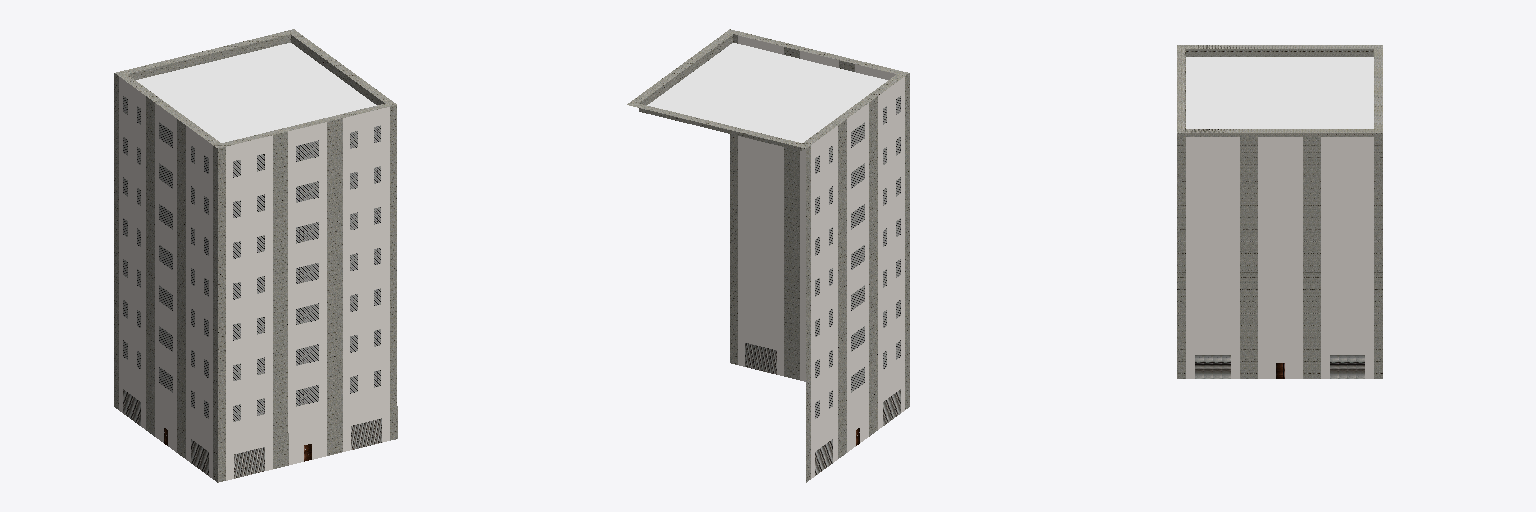
The picture shows the model from 3 angles: view 1: azimuth 30°, elevation 25°; view 2: azimuth 150°, elevation 25°; view 3: azimuth 270°, elevation 25°; orthographic projection.
Parts seen in each view (by area): view 1: NormalBuilding1; view 2: NormalBuilding1; view 3: NormalBuilding1.
Part boxes in pixels (x1,y1,x2,y2): NormalBuilding1: (114,29,397,482); NormalBuilding1: (627,29,909,482); NormalBuilding1: (1177,45,1382,378).
Size of the model in its own units: 23.08 by 41 by 23.01.
6 materials, 4 textured.